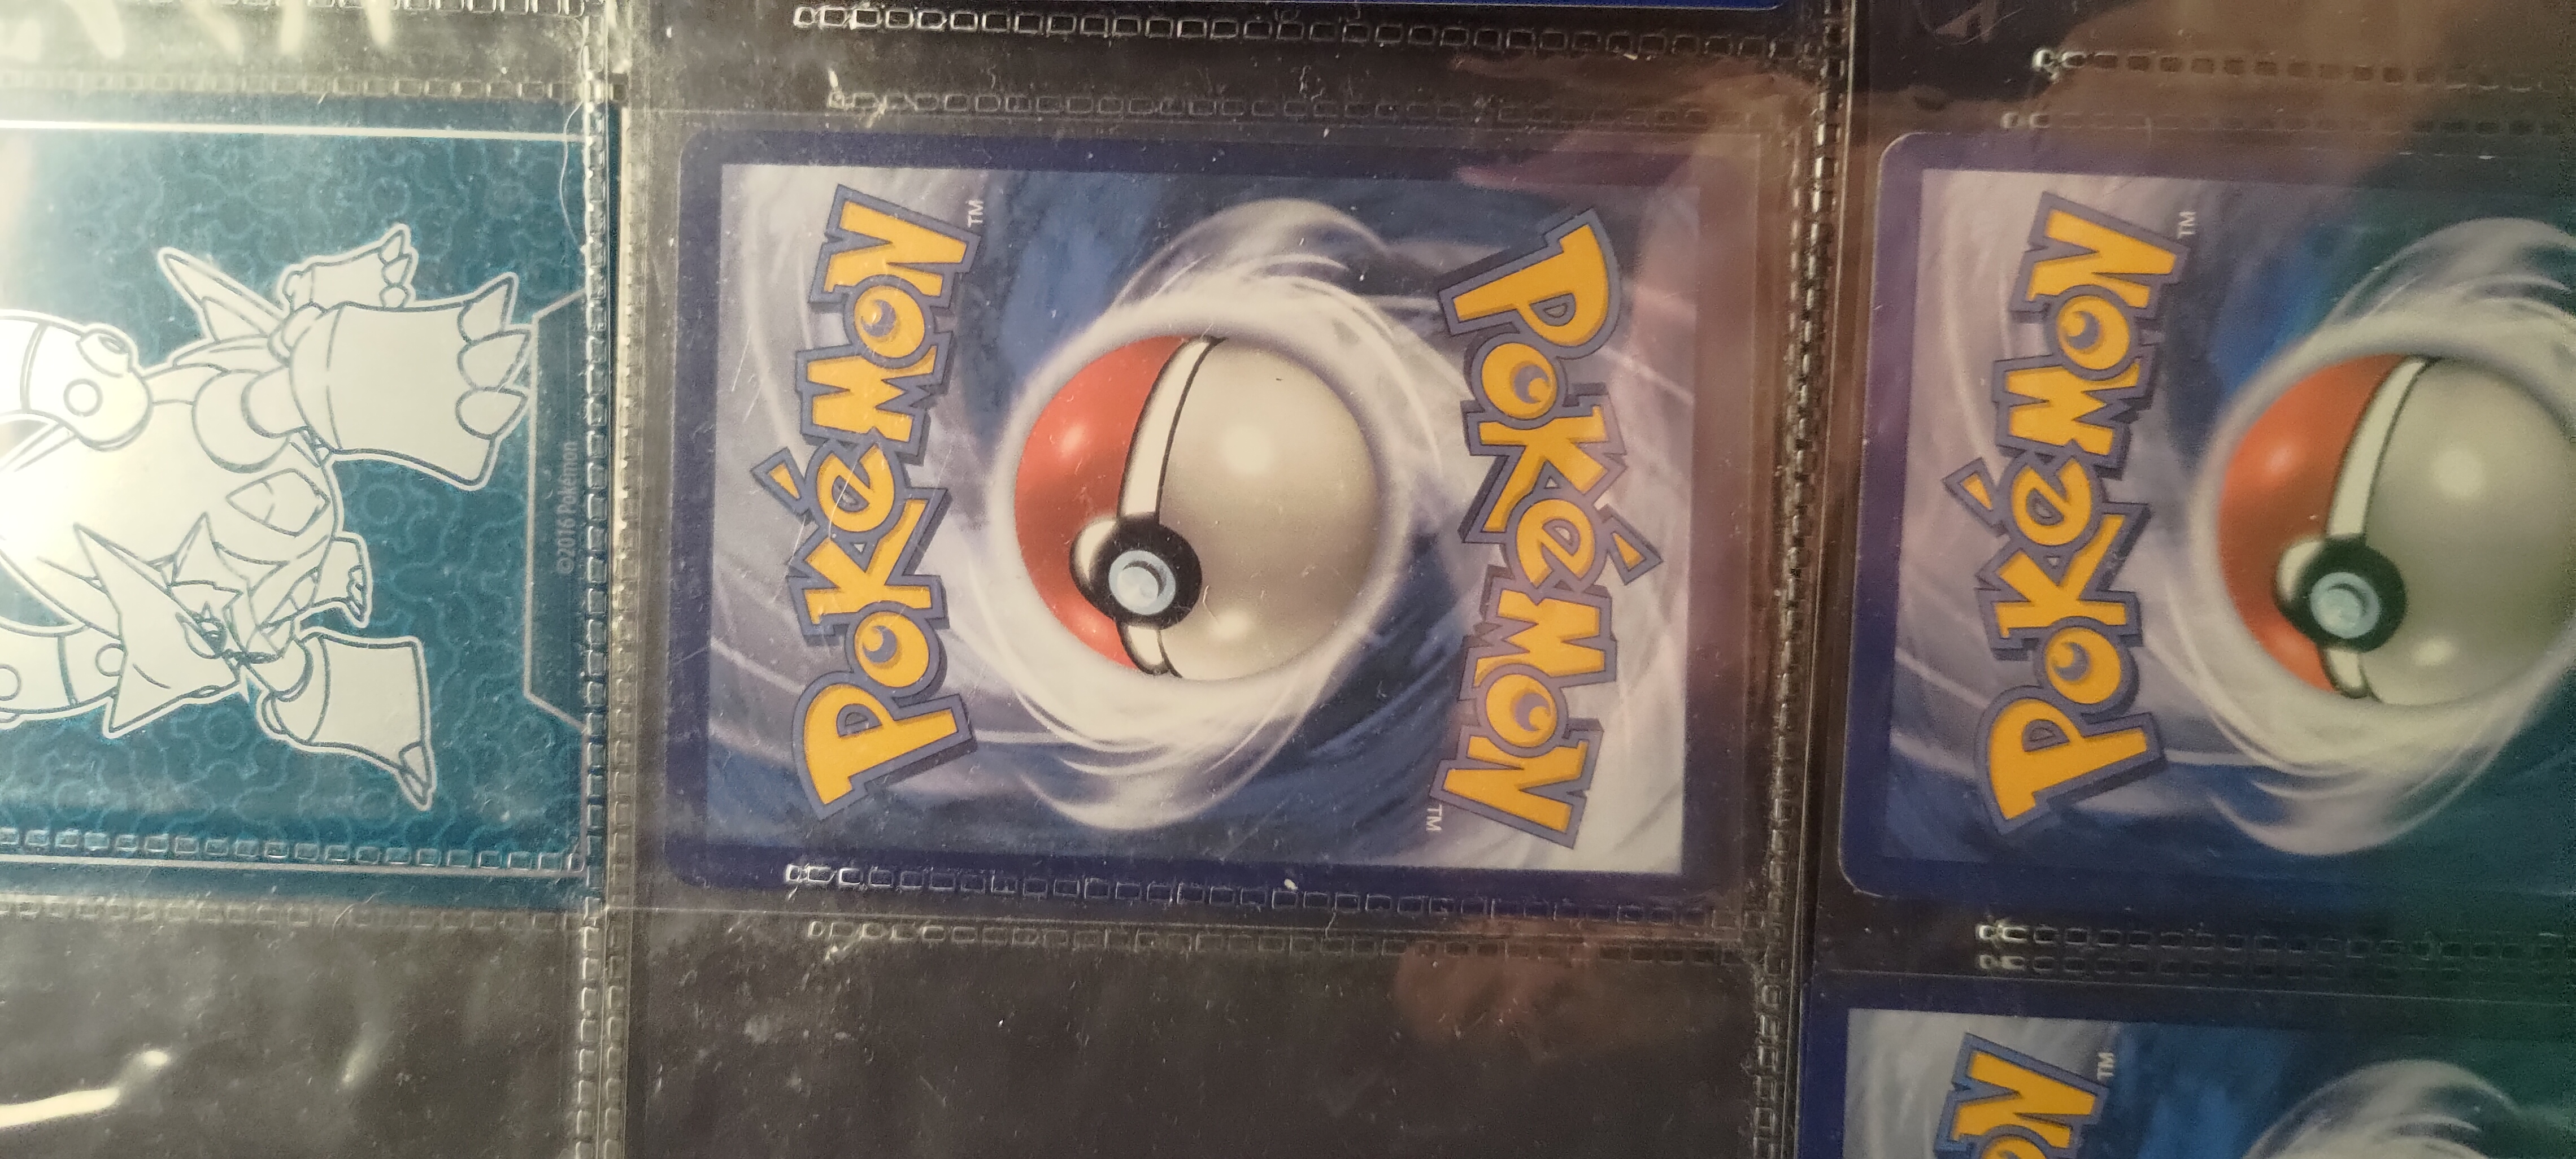pokemon_card: (685, 97, 1812, 891)
